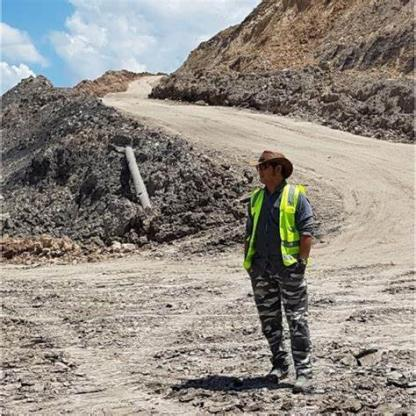person: (233, 140, 332, 401)
